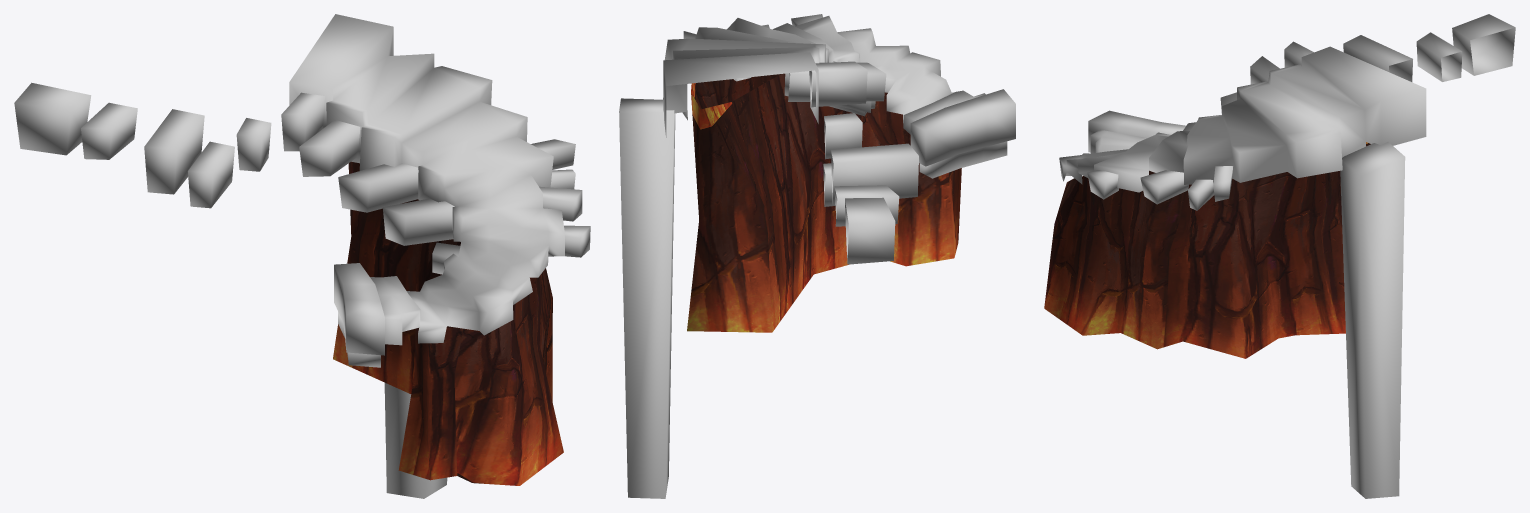
File: terrain07.FBX
The picture shows the model from 3 angles, left to right: view 1: azimuth 30°, elevation 25°; view 2: azimuth 150°, elevation 25°; view 3: azimuth 270°, elevation 25°; orthographic projection. The views are drawn at different scales.
Parts seen in each view (by area): view 1: terrain07; view 2: terrain07; view 3: terrain07.
Part boxes in pixels (left/top/right/bottom): terrain07: left=14, top=14, right=590, bottom=498; terrain07: left=619, top=14, right=1015, bottom=498; terrain07: left=1044, top=14, right=1515, bottom=498.
Size of the model in its own units: 1090 by 1372 by 1234.
